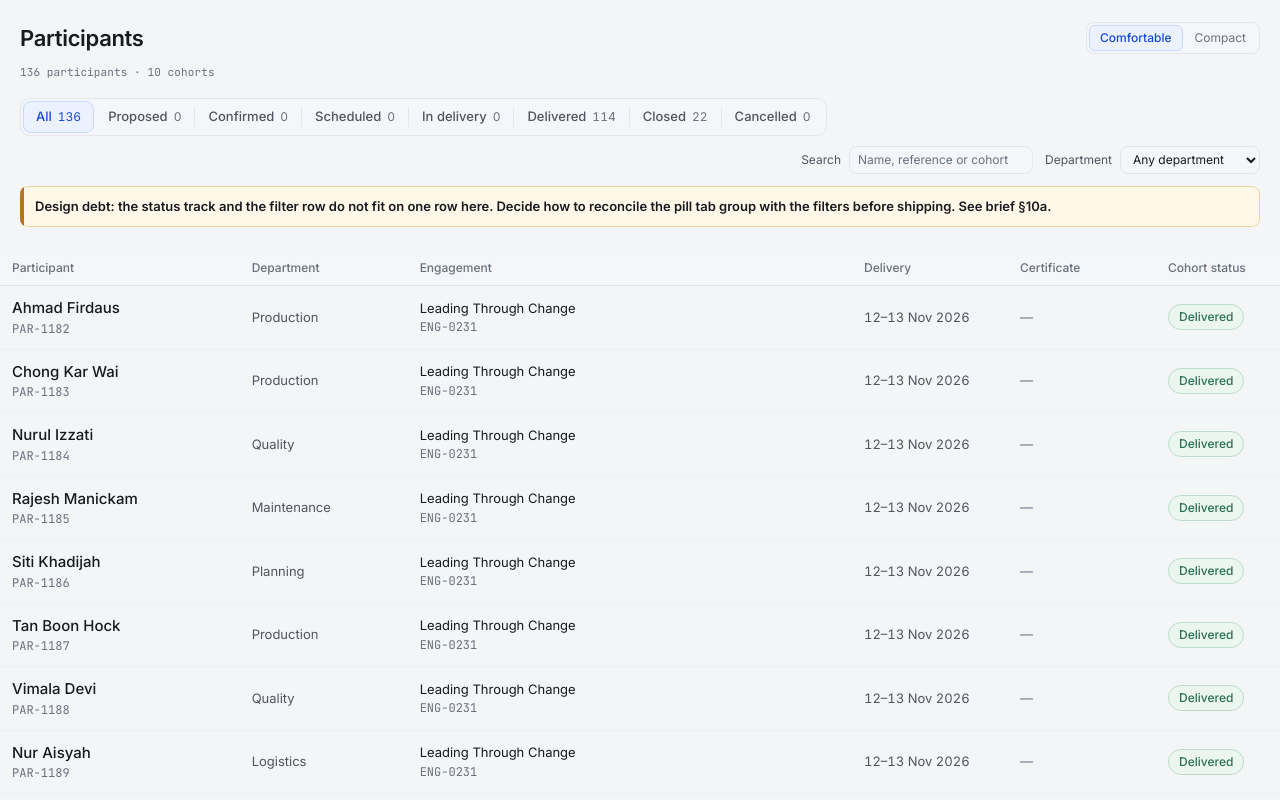
Test case: M10 · participant directory › narrows to one department and reports it as a chip
Expected: the text "Ahmad Firdaus" is shown, left=12, top=298, right=120, bottom=317
Select "Quality" in the dropdown labelled "Department" at x=1190, y=160, box left=1120, top=146, right=1260, bottom=174
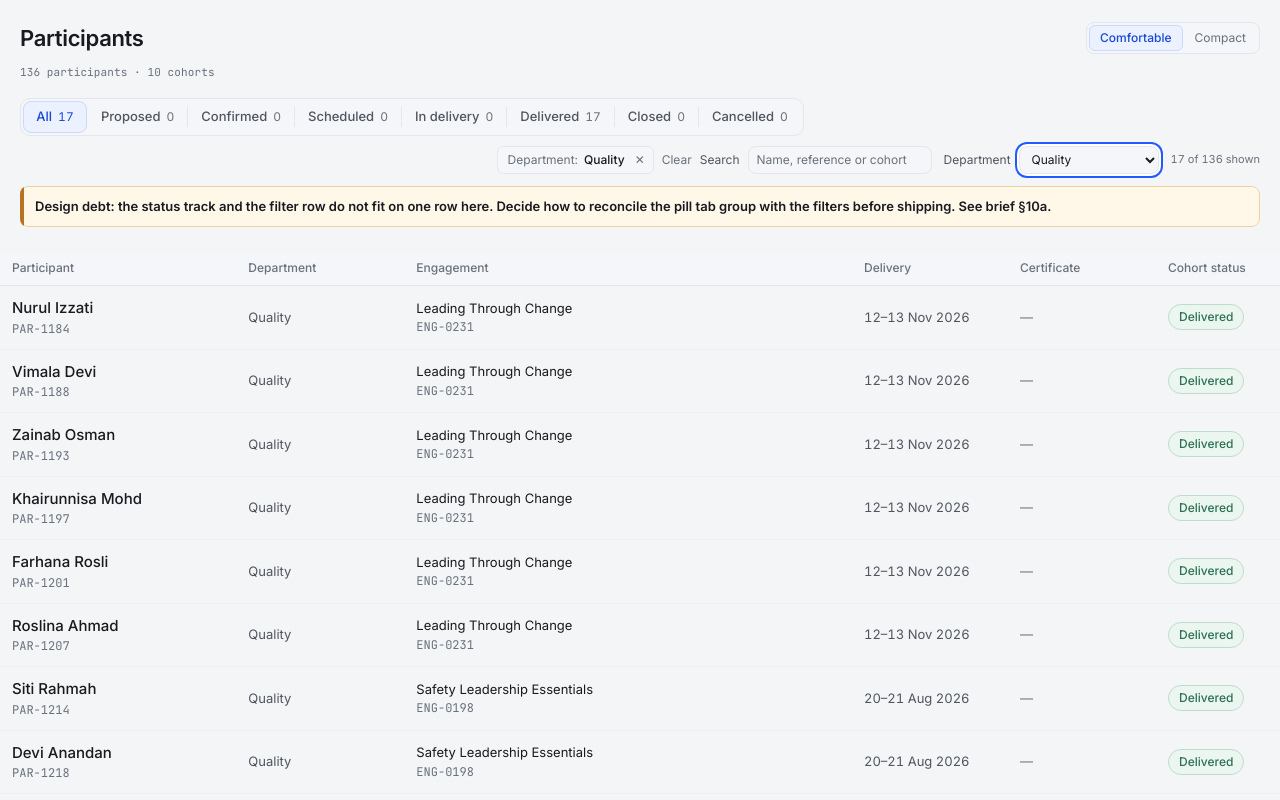
Expected: the text "Nurul Izzati" is shown, left=12, top=298, right=93, bottom=317
Now the text "Department:" is shown, box left=508, top=150, right=578, bottom=168
Now the text "Ahmad Firdaus" is gone
